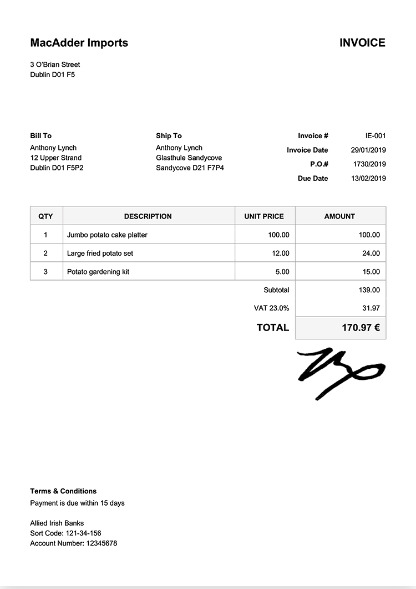Table: (23, 191, 394, 341)
